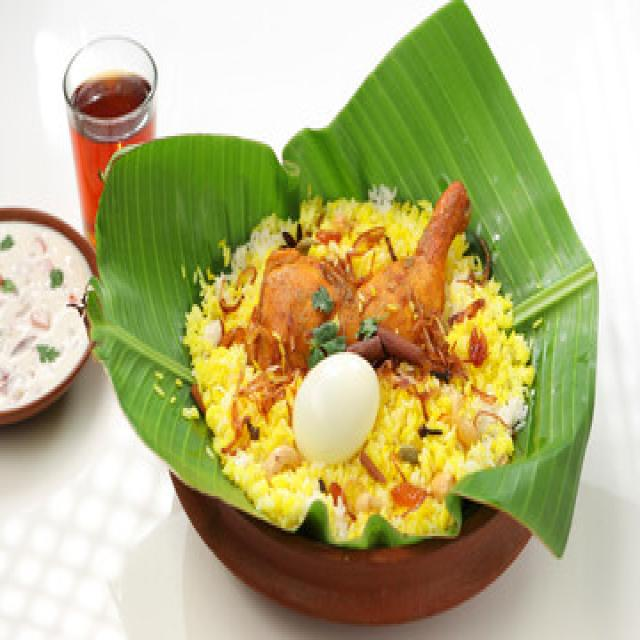BIRIYANI: (183, 192, 533, 539)
CURD: (0, 208, 96, 424)
